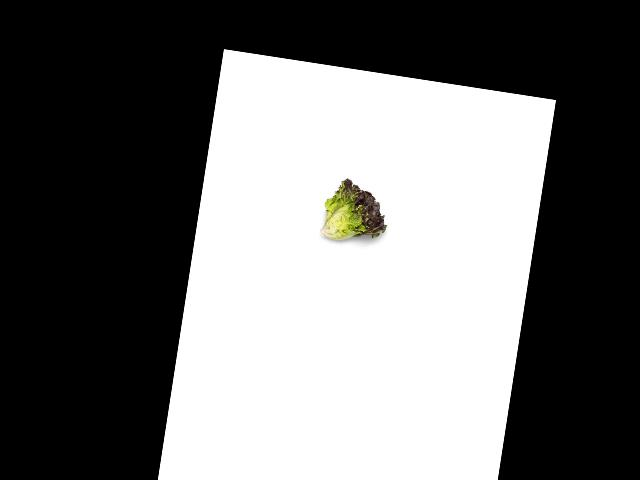lettuce: (317, 176, 396, 248)
